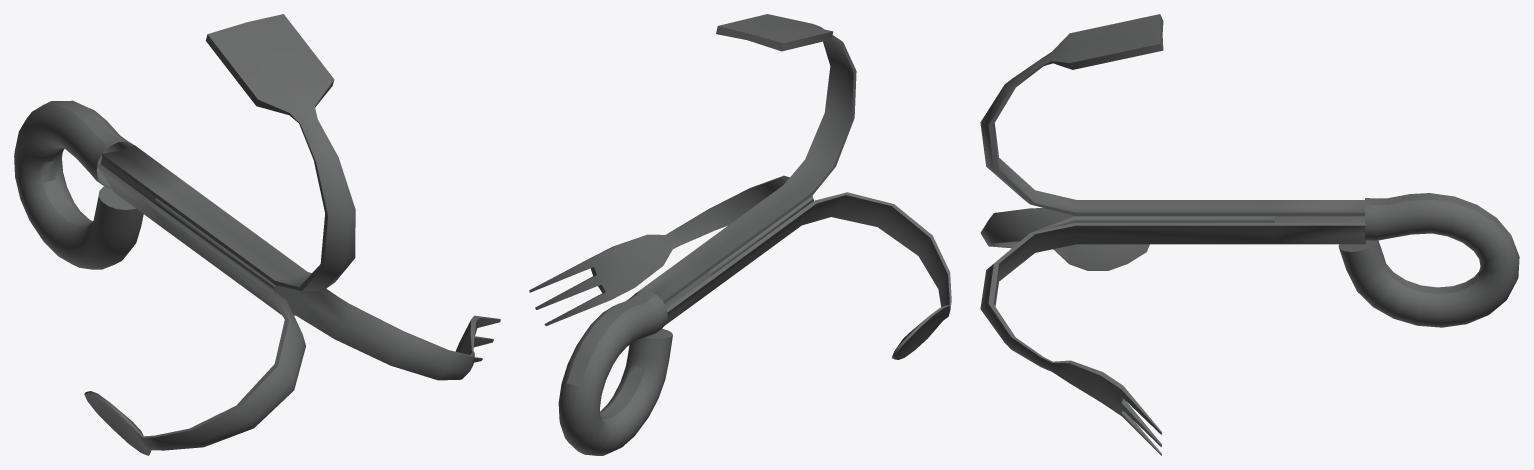
File: hook.glb
The picture shows the model from 3 angles, left to right: view 1: azimuth 30°, elevation 25°; view 2: azimuth 150°, elevation 25°; view 3: azimuth 270°, elevation 25°; orthographic projection. The views are drawn at different scales.
Parts seen in each view (by area): view 1: Object_3, Object_2; view 2: Object_3, Object_2; view 3: Object_3, Object_2.
Part boxes in pixels (x1,y1,x2,y2): Object_3: [84, 14, 500, 455]; Object_2: [14, 100, 143, 269]; Object_3: [529, 14, 951, 359]; Object_2: [558, 291, 672, 455]; Object_3: [980, 14, 1365, 455]; Object_2: [1338, 193, 1519, 327].
Bounding box in the file's own units: 2.15 × 1.87 × 2.75.
2 materials, 2 textured.
